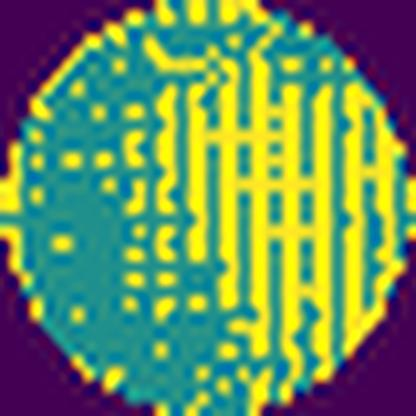Random: (114, 0, 416, 416)
